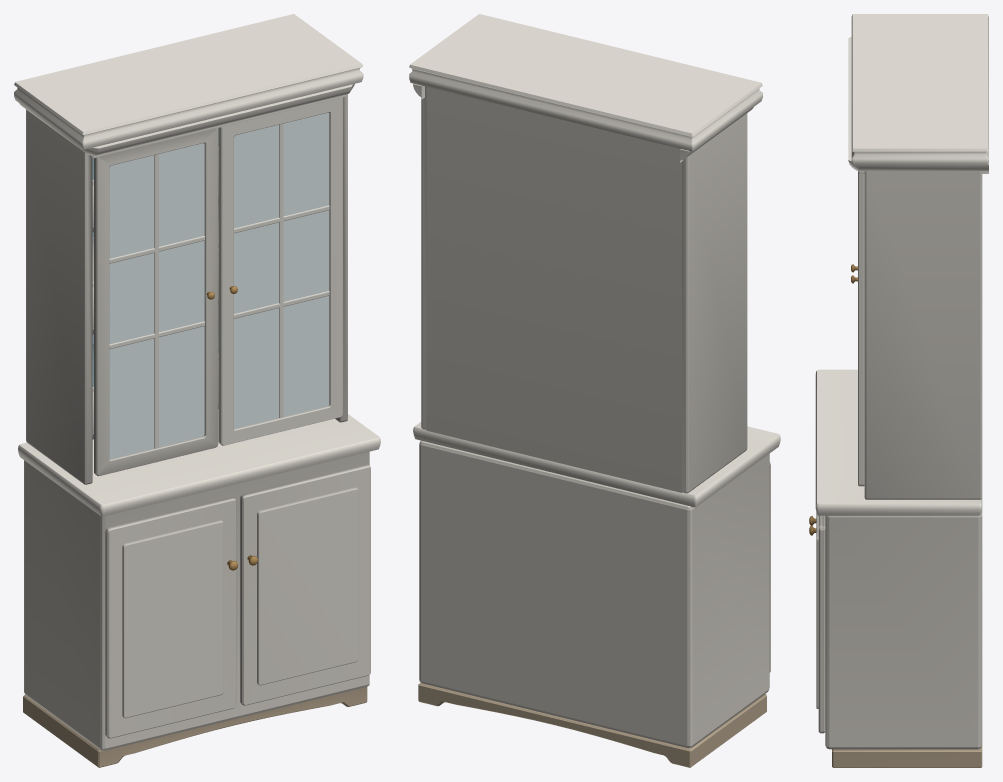
Rendered from chinaCabinet.glb.
The picture shows the model from 3 angles, left to right: view 1: azimuth 30°, elevation 25°; view 2: azimuth 150°, elevation 25°; view 3: azimuth 270°, elevation 25°; orthographic projection. The views are drawn at different scales.
Visible parts, largest first — view 1: body, glass_door-1, glass_door1; view 2: body; view 3: body, glass_door-1.
Part boxes in pixels (bbox=[...]): body: bbox=[14, 14, 380, 767]; glass_door-1: bbox=[218, 97, 342, 445]; glass_door1: bbox=[94, 128, 218, 476]; body: bbox=[409, 14, 780, 767]; body: bbox=[809, 14, 988, 767]; glass_door-1: bbox=[851, 173, 864, 486].
Bounding box in the file's own units: 0.98 × 2.1 × 0.5496.
